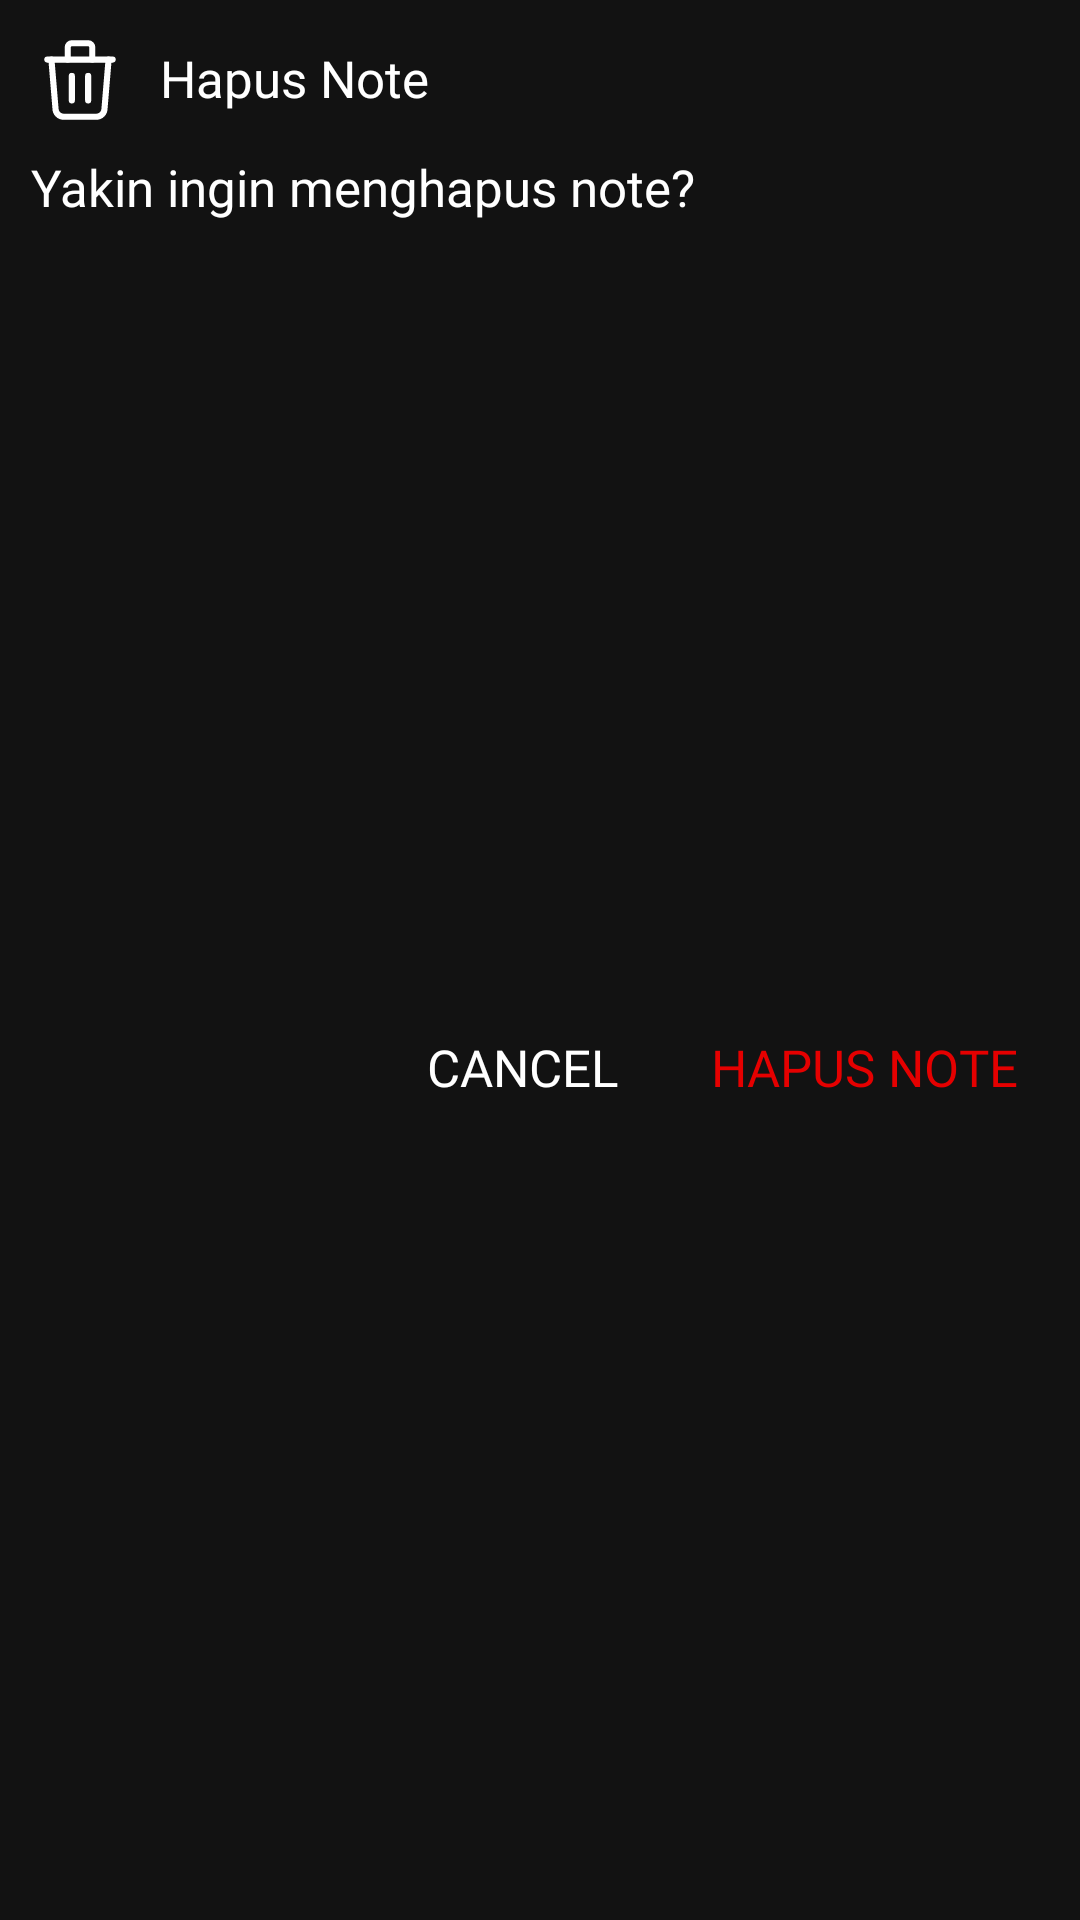

Icon bounding boxes for this 1080w x 1920h phone screenshot, format (x1, y1, x2, y2):
delete: (44, 40, 116, 120)
